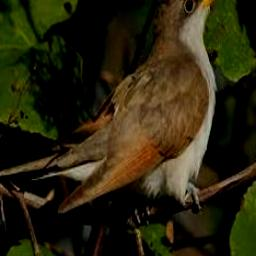Cuckoo: (33, 0, 229, 213)
